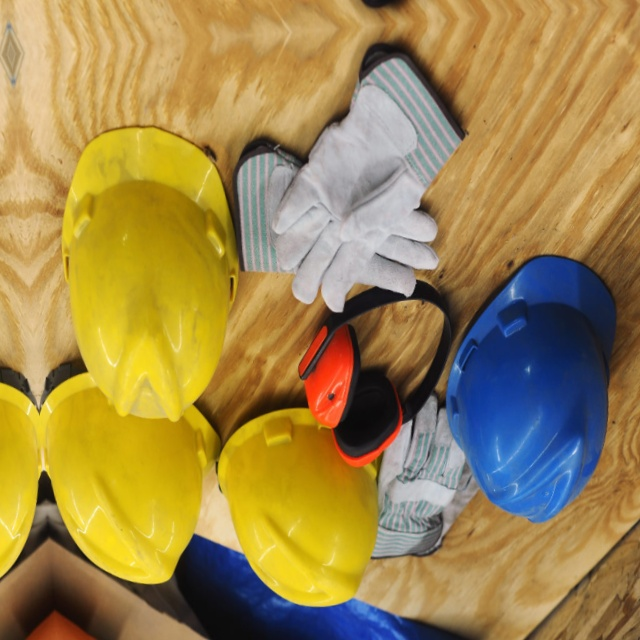blue-helmet: (435, 247, 638, 532)
yellow-helmet: (50, 120, 251, 431), (41, 363, 232, 592), (211, 401, 390, 616)
